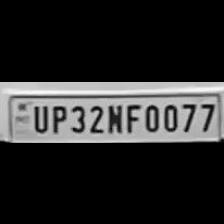0: (141, 100, 161, 132), (160, 100, 178, 132)
2: (86, 100, 104, 134)
3: (66, 101, 86, 133)
7: (196, 100, 216, 132), (178, 100, 196, 132)
F: (124, 100, 140, 132)
N: (104, 100, 122, 134)
P: (48, 100, 68, 134)
U: (29, 101, 48, 133)
